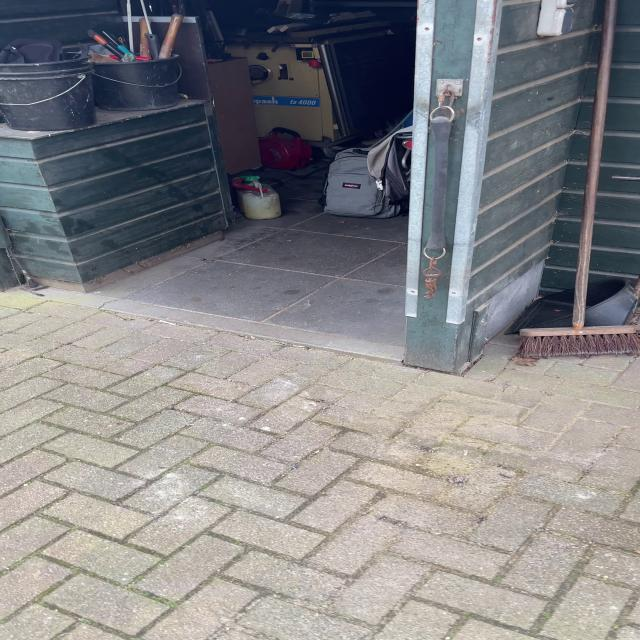backpack: (312, 145, 403, 221)
